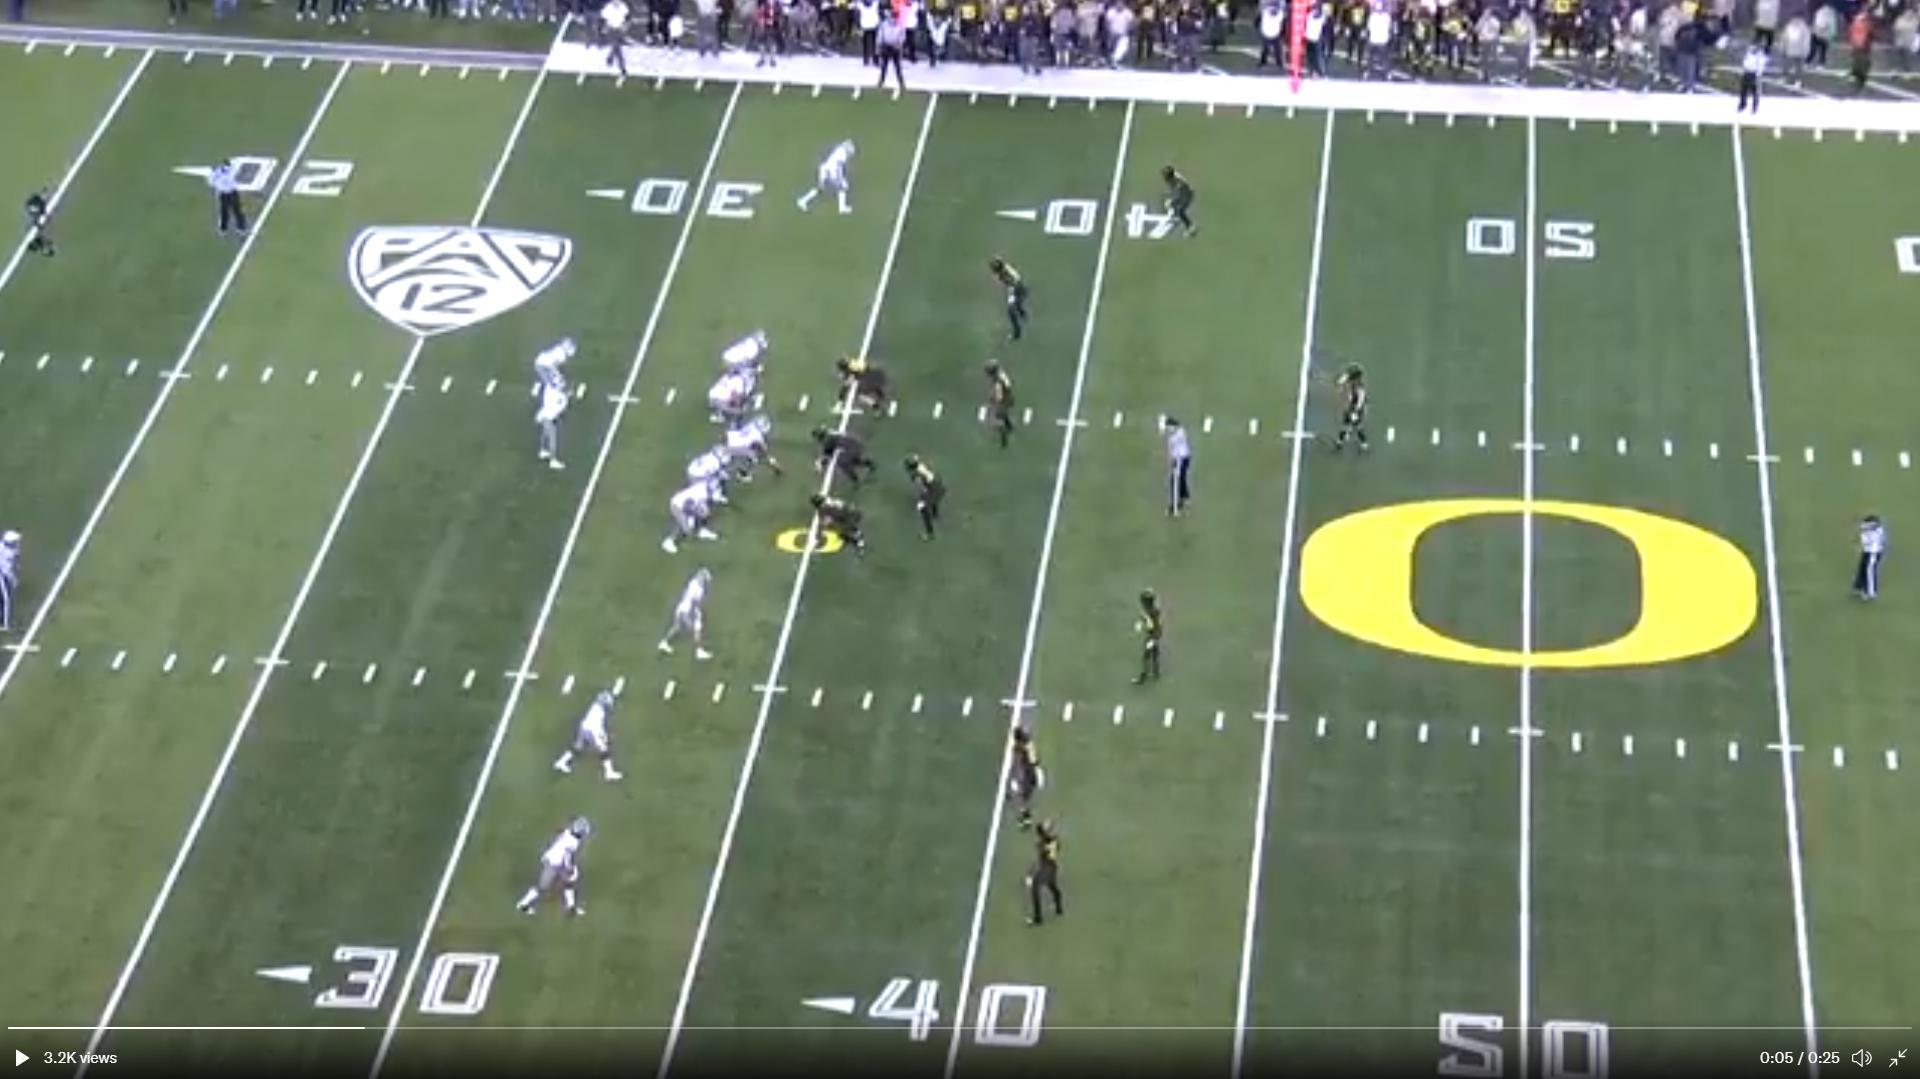player: (510, 816, 597, 926), (546, 684, 626, 788), (652, 564, 718, 671), (1021, 812, 1075, 933), (657, 472, 725, 558), (800, 134, 863, 220), (1131, 586, 1178, 693), (1003, 719, 1045, 831), (539, 366, 580, 479), (1332, 361, 1378, 460), (806, 487, 868, 560), (838, 352, 899, 425), (727, 413, 784, 487), (709, 363, 760, 445), (977, 357, 1017, 457), (908, 451, 951, 544), (814, 424, 873, 491), (995, 255, 1037, 347), (530, 334, 580, 407), (686, 442, 739, 510), (1158, 160, 1200, 241), (718, 330, 771, 368)
ref: (1149, 416, 1195, 525), (1851, 510, 1898, 610), (207, 154, 254, 247), (869, 10, 911, 97), (0, 524, 30, 641), (1728, 40, 1770, 122)
